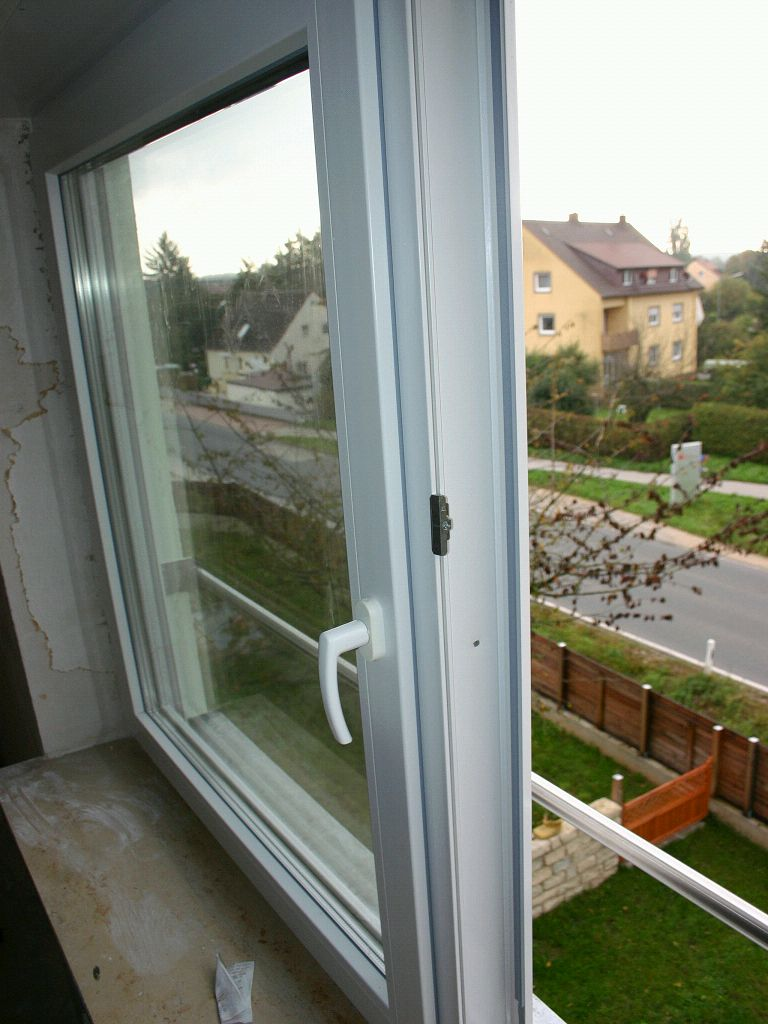windows: (43, 87, 501, 1019)
